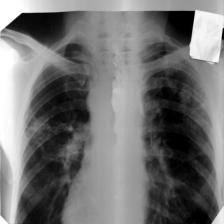tuberculosis: (10, 33, 221, 224)
